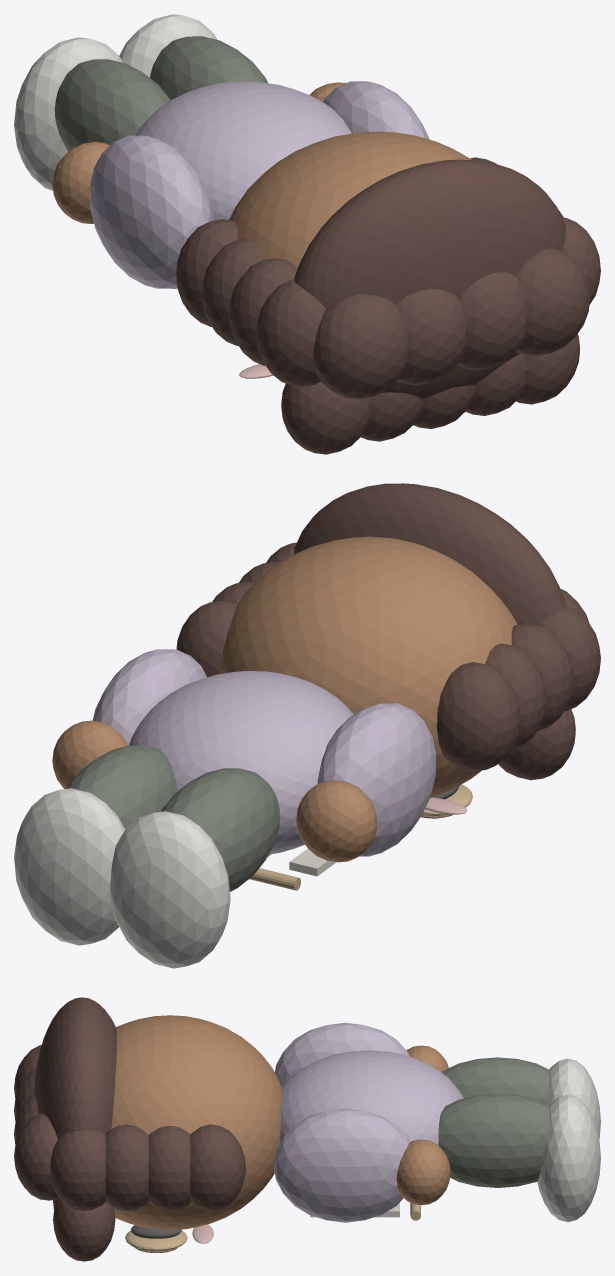
File: designer.glb
3 views of the same model, one above another, from view 1: azimuth 30°, elevation 25°; view 2: azimuth 150°, elevation 25°; view 3: azimuth 270°, elevation 25° (orthographic). The views are drawn at different scales.
Parts seen in each view (by area): view 1: hair_cap, body_shirt, head_base, sleeve_L, top_curl_0, leg_L, shoe_L, top_curl_3, curl_L_0, top_curl_2, top_curl_1, fringe_0 (+12 smaller); view 2: head_base, body_shirt, hair_cap, shoe_L, shoe_R, sleeve_L, leg_L, curl_L_3, leg_R, hand_L, sleeve_R, curl_L_1 (+7 smaller); view 3: head_base, sleeve_R, body_shirt, hair_cap, leg_R, shoe_R, curl_R_3, curl_R_0, sleeve_L, curl_R_1, leg_L, curl_R_2 (+10 smaller).
Boxes of the visible parts, bbox=[...] form: hair_cap: bbox=[294, 159, 565, 399]; body_shirt: bbox=[135, 81, 351, 220]; head_base: bbox=[229, 131, 471, 267]; sleeve_L: bbox=[90, 135, 213, 288]; top_curl_0: bbox=[313, 294, 406, 399]; leg_L: bbox=[54, 59, 170, 151]; shoe_L: bbox=[14, 37, 123, 190]; top_curl_3: bbox=[516, 248, 589, 356]; curl_L_0: bbox=[256, 279, 326, 387]; top_curl_2: bbox=[457, 272, 526, 370]; top_curl_1: bbox=[396, 289, 465, 385]; fringe_0: bbox=[281, 382, 369, 454]; head_base: bbox=[220, 536, 517, 797]; body_shirt: bbox=[129, 670, 353, 854]; hair_cap: bbox=[294, 483, 565, 624]; shoe_L: bbox=[110, 811, 230, 968]; shoe_R: bbox=[14, 788, 125, 945]; sleeve_L: bbox=[317, 703, 435, 856]; leg_L: bbox=[161, 768, 279, 891]; curl_L_3: bbox=[437, 662, 520, 771]; leg_R: bbox=[67, 745, 177, 829]; hand_L: bbox=[296, 780, 377, 862]; sleeve_R: bbox=[92, 649, 206, 745]; curl_L_1: bbox=[511, 623, 573, 731]; head_base: bbox=[111, 1015, 281, 1229]; sleeve_R: bbox=[273, 1108, 410, 1222]; body_shirt: bbox=[280, 1050, 463, 1145]; hair_cap: bbox=[34, 997, 117, 1138]; leg_R: bbox=[438, 1093, 549, 1187]; shoe_R: bbox=[537, 1094, 600, 1222]; curl_R_3: bbox=[190, 1124, 245, 1210]; curl_R_0: bbox=[50, 1130, 105, 1210]; sleeve_L: bbox=[274, 1022, 409, 1085]; curl_R_1: bbox=[105, 1124, 148, 1210]; leg_L: bbox=[441, 1057, 549, 1104]; curl_R_2: bbox=[148, 1126, 190, 1210].
Size of the model in its own units: 1.56 by 1.23 by 3.01.
